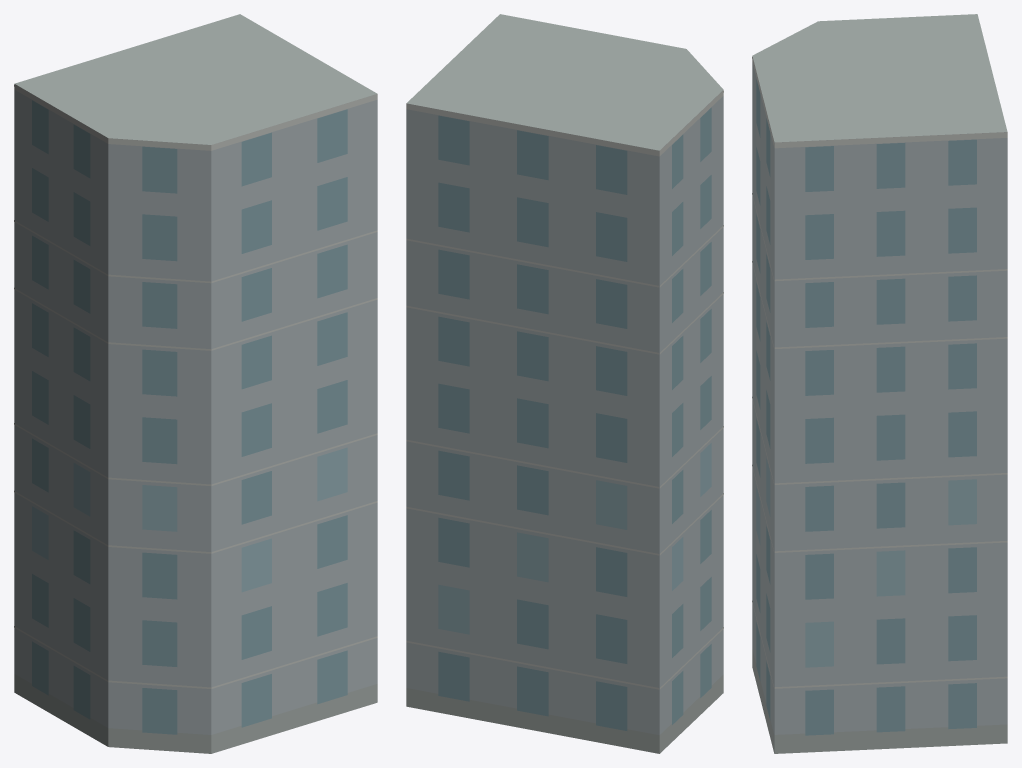
The model's file is survey-upis-32663594.glb.
3 renders of one model, left to right at view 1: azimuth 30°, elevation 25°; view 2: azimuth 150°, elevation 25°; view 3: azimuth 270°, elevation 25°, orthographic.
Parts seen in each view (by area): view 1: survey-upis-32663594.tmp; view 2: survey-upis-32663594.tmp; view 3: survey-upis-32663594.tmp.
Part boxes in pixels (x1,y1,x2,y2): survey-upis-32663594.tmp: [14, 14, 377, 753]; survey-upis-32663594.tmp: [406, 14, 723, 753]; survey-upis-32663594.tmp: [752, 14, 1007, 753].
Size of the model in its own units: 11.47 by 25.4 by 9.63.
